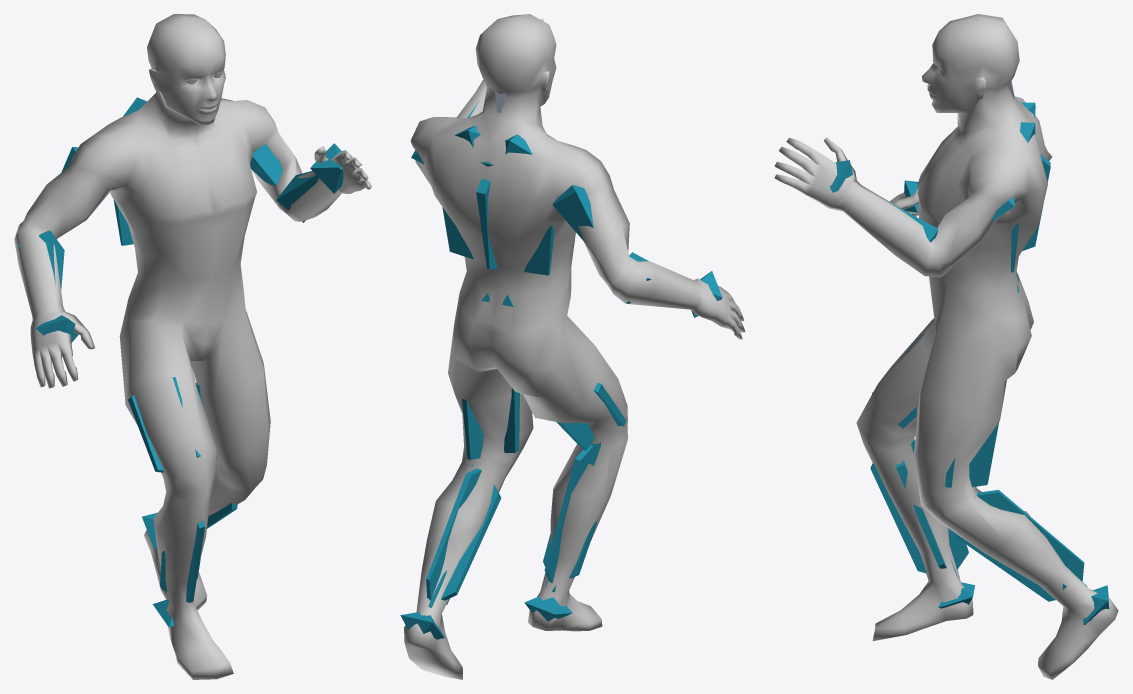
File: player01.obj
3 views of the same model, side by side, from view 1: azimuth 30°, elevation 25°; view 2: azimuth 150°, elevation 25°; view 3: azimuth 270°, elevation 25° (orthographic). The views are drawn at different scales.
Visible parts, largest first — view 1: Man, Bone006, Bone013_mirrored_, Bone023_mirrored_, Bone014_mirrored_, Bone005, Bone014, Bone023; view 2: Man, Bone006_mirrored_, Bone002, Bone006, Bone005_mirrored_, Bone013, Bone005, Bone007, Bone007_mirrored_; view 3: Man, Bone006, Bone006_mirrored_, Bone005_mirrored_, Bone002.
Part boxes in pixels (bbox=[...]): Man: bbox=[14, 14, 371, 679]; Bone006: bbox=[160, 520, 204, 602]; Bone013_mirrored_: bbox=[250, 144, 282, 185]; Bone023_mirrored_: bbox=[310, 143, 343, 193]; Bone014_mirrored_: bbox=[276, 171, 318, 222]; Bone005: bbox=[128, 377, 200, 472]; Bone014: bbox=[18, 230, 64, 290]; Bone023: bbox=[36, 315, 78, 342]; Man: bbox=[404, 14, 745, 679]; Bone006_mirrored_: bbox=[426, 464, 501, 607]; Bone002: bbox=[442, 161, 554, 275]; Bone006: bbox=[543, 442, 600, 592]; Bone005_mirrored_: bbox=[462, 388, 519, 459]; Bone013: bbox=[552, 185, 593, 242]; Bone005: bbox=[556, 382, 626, 450]; Bone007: bbox=[524, 596, 572, 621]; Bone007_mirrored_: bbox=[400, 612, 444, 639]; Man: bbox=[774, 14, 1118, 679]; Bone006: bbox=[870, 439, 968, 578]; Bone006_mirrored_: bbox=[956, 490, 1087, 601]; Bone005_mirrored_: bbox=[945, 423, 998, 487]; Bone002: bbox=[1011, 138, 1050, 272].
Bounding box in the file's own units: 37.5 × 77.26 × 37.65.
